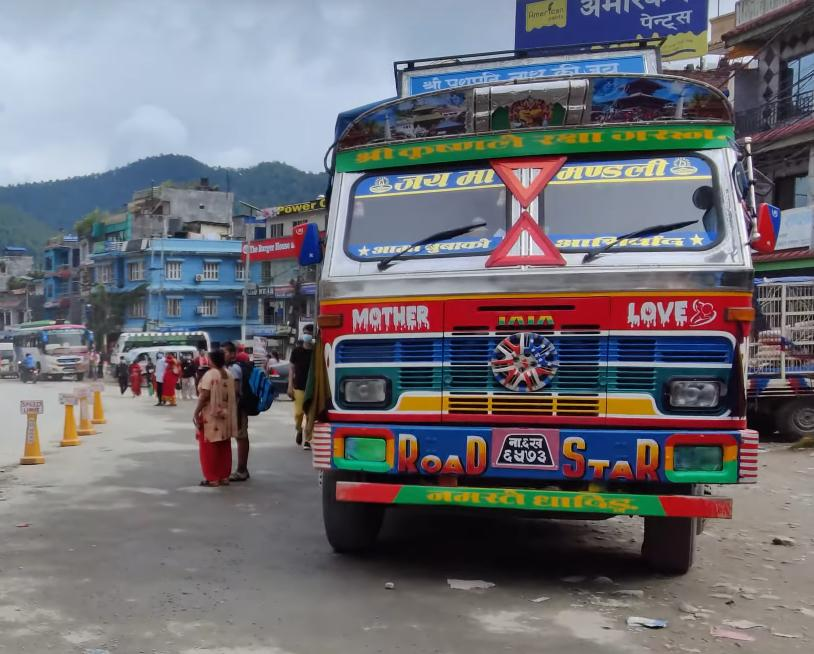bus: (10, 321, 91, 382)
truck: (300, 45, 777, 574)
